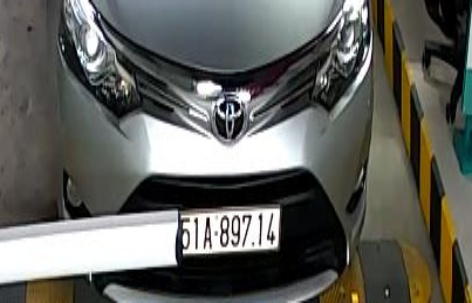plate: (174, 207, 284, 251)
